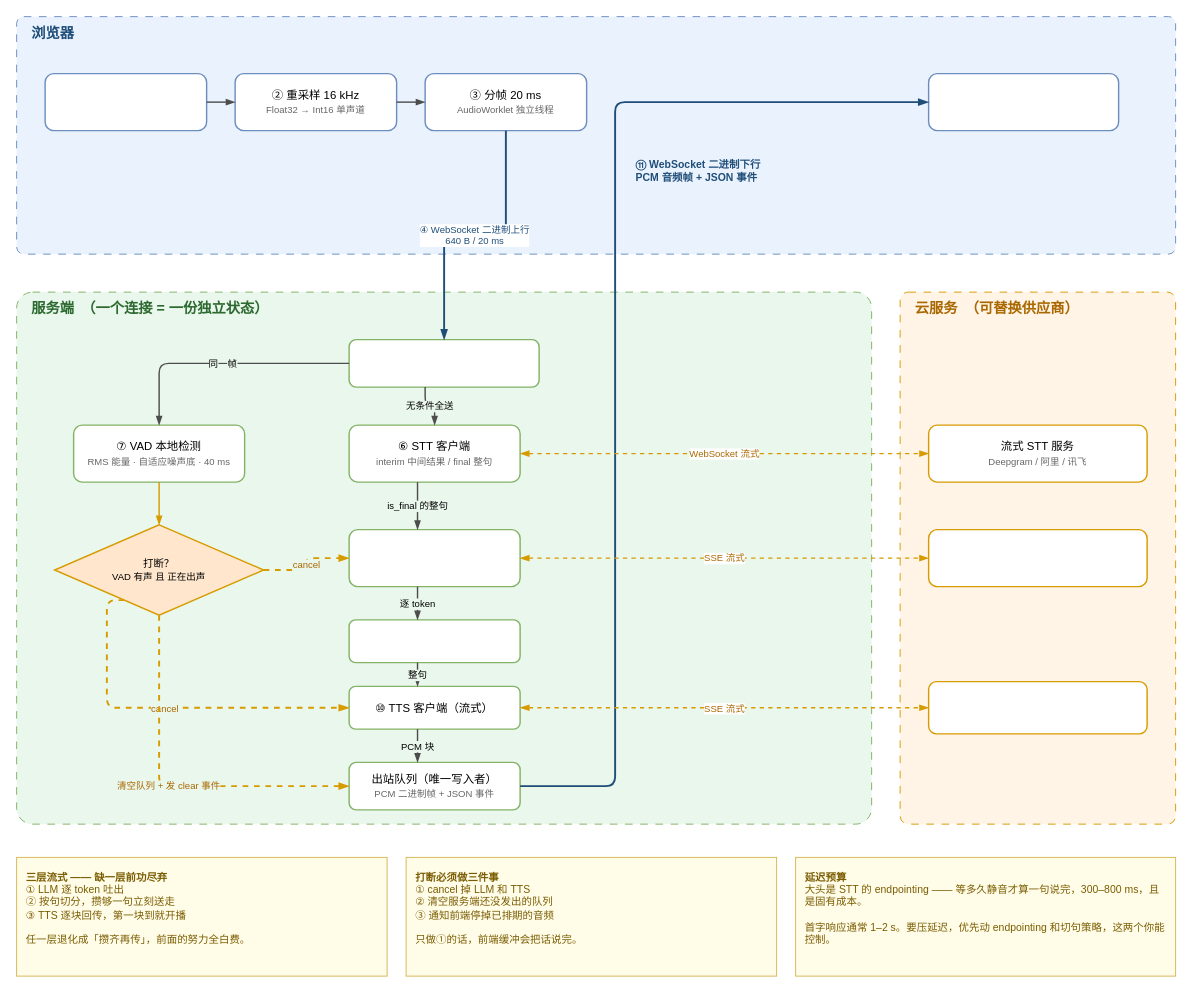
This 1192x993 diagram has some shape labels left out. Here are the shapes that lost their labels. From the top down, the centre of each, then its label:
[125,101]: ① 麦克风采集 echoCancellation 必开
[1023,101]: ⑫ 无缝播放 nextTime 精确排期 · clear 可中断
[443,362]: ⑤ 分发：每帧走两路
[434,557]: ⑧ LLM 客户端 stream=true · 带对话历史
[1037,557]: LLM 服务 任何 OpenAI 兼容端点
[434,641]: ⑨ 切句
[1037,707]: 流式 TTS 服务 MiniMax / 火山 / ElevenLabs
